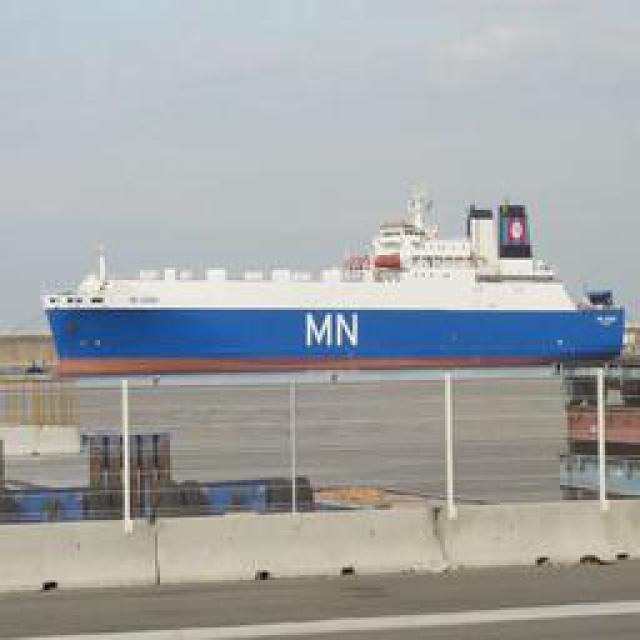Ship: (40, 204, 625, 369)
